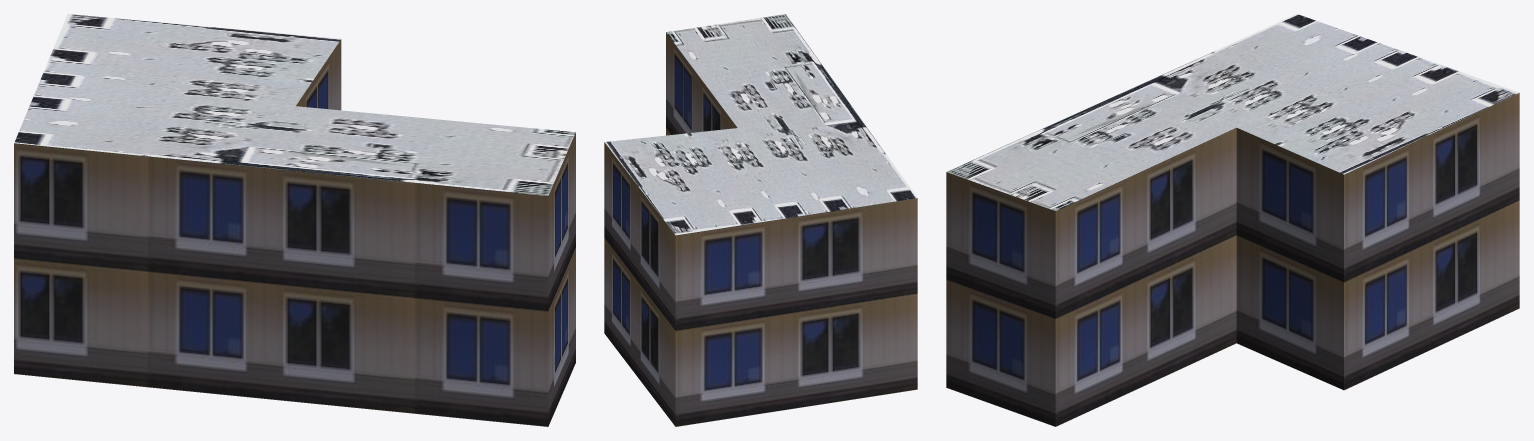
File: ResTex__3023.fbx
3 renders of one model, left to right at view 1: azimuth 30°, elevation 25°; view 2: azimuth 150°, elevation 25°; view 3: azimuth 270°, elevation 25°, orthographic. The views are drawn at different scales.
Visible parts, largest first — view 1: CityEngineMaterial_5_m, CityEngineMaterial_2_m; view 2: CityEngineMaterial_5_m, CityEngineMaterial_2_m; view 3: CityEngineMaterial_5_m, CityEngineMaterial_2_m.
Boxes of the visible parts, bbox=[...] form: CityEngineMaterial_5_m: bbox=[14, 39, 575, 426]; CityEngineMaterial_2_m: bbox=[14, 14, 575, 195]; CityEngineMaterial_5_m: bbox=[604, 32, 917, 426]; CityEngineMaterial_2_m: bbox=[604, 14, 916, 235]; CityEngineMaterial_5_m: bbox=[946, 93, 1519, 426]; CityEngineMaterial_2_m: bbox=[947, 14, 1518, 210].
Bounding box in the file's own units: 11.76 × 6 × 14.45.
2 materials, 2 textured.
